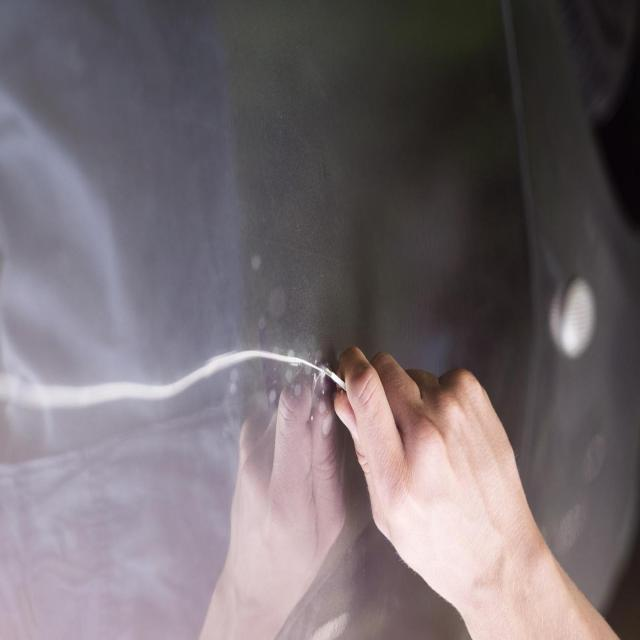scratch: (181, 337, 320, 401)
